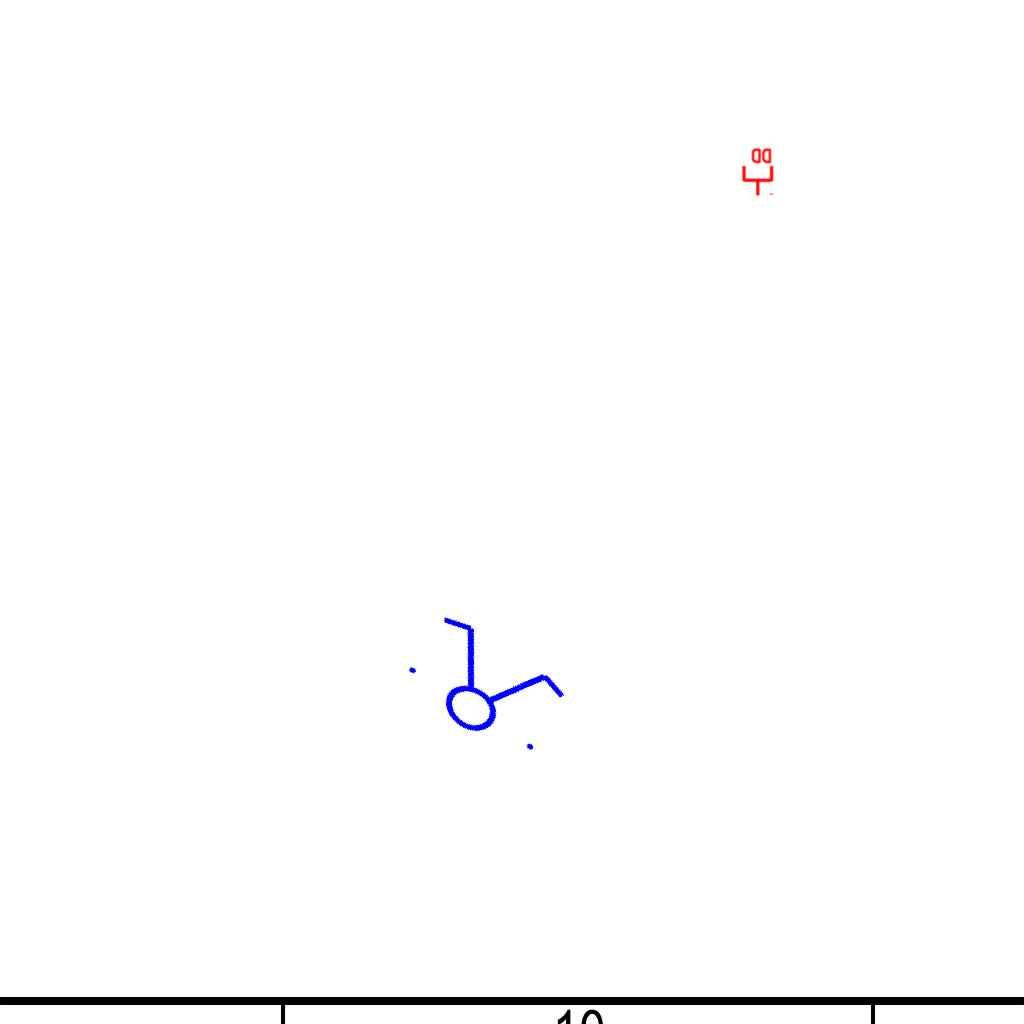Datenanschluss_zweifach: (740, 146, 774, 197)
Serienschalter: (387, 599, 581, 773)
